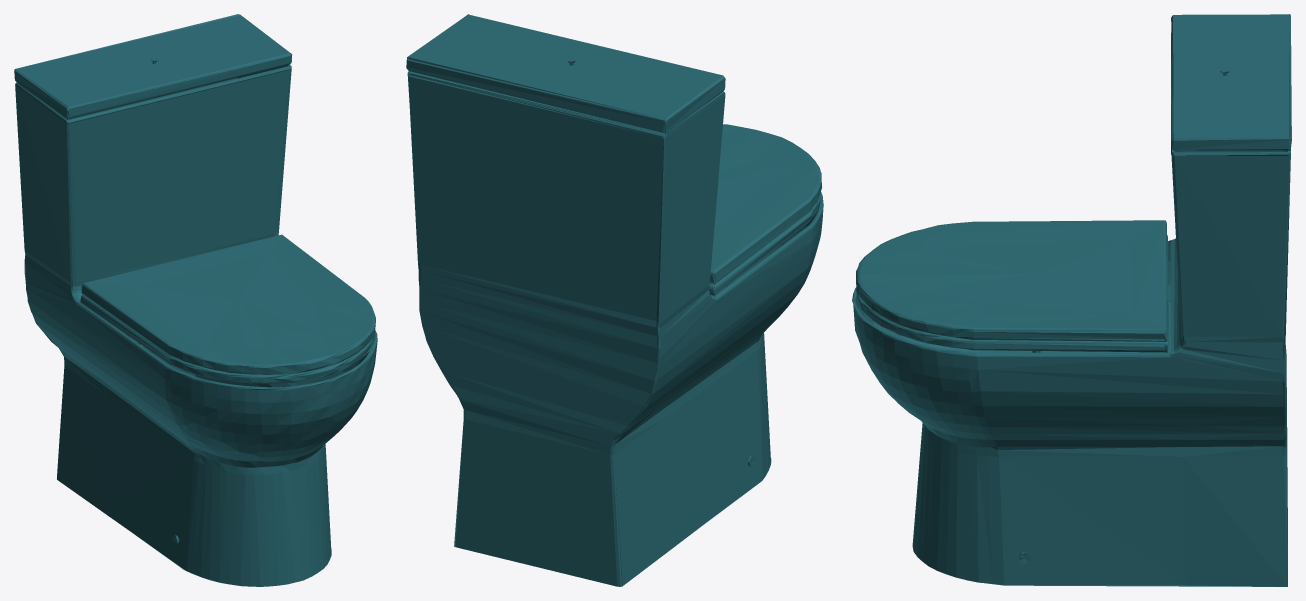
The model's file is gen-toilet-1.glb.
3 views of the same model, side by side, from view 1: azimuth 30°, elevation 25°; view 2: azimuth 150°, elevation 25°; view 3: azimuth 270°, elevation 25° (orthographic). The views are drawn at different scales.
Parts seen in each view (by area): view 1: gen-toilet-1_part1; view 2: gen-toilet-1_part1; view 3: gen-toilet-1_part1.
Part boxes in pixels (x1=…): gen-toilet-1_part1: x1=14, y1=14, x2=377, y2=586; gen-toilet-1_part1: x1=406, y1=14, x2=823, y2=586; gen-toilet-1_part1: x1=852, y1=14, x2=1291, y2=586.
Bounding box in the file's own units: 448 × 800 × 670.
